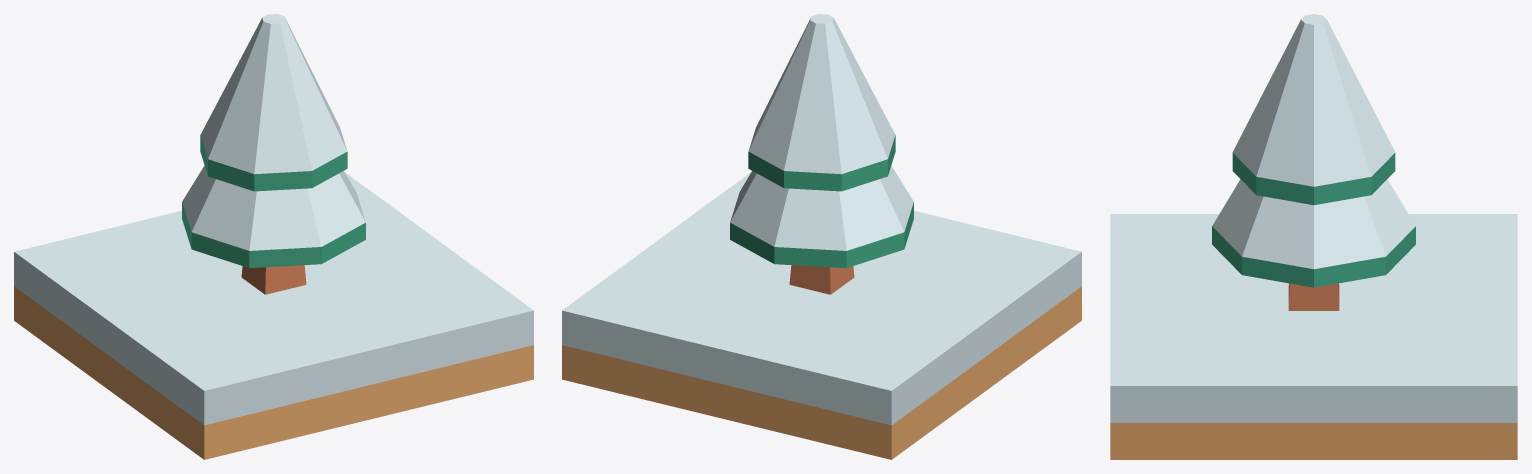
The model's file is snow_tile_tree.dae.
The picture shows the model from 3 angles, left to right: view 1: azimuth 30°, elevation 25°; view 2: azimuth 150°, elevation 25°; view 3: azimuth 270°, elevation 25°; orthographic projection. The views are drawn at different scales.
Visible parts, largest first — view 1: snow_tile_tree, tree; view 2: snow_tile_tree, tree; view 3: snow_tile_tree, tree.
Boxes of the visible parts, x1,y1,x2,y2 form: snow_tile_tree: [14, 172, 533, 459]; tree: [182, 14, 365, 294]; snow_tile_tree: [562, 172, 1081, 459]; tree: [730, 14, 913, 294]; snow_tile_tree: [1110, 214, 1517, 459]; tree: [1212, 14, 1415, 310].
Bounding box in the file's own units: 1 × 0.96 × 1.
